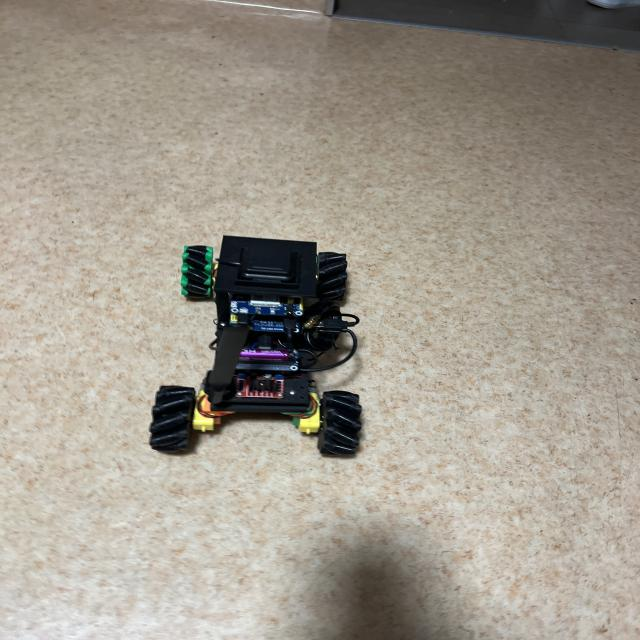robot: (183, 236, 362, 456), (150, 388, 194, 451)
